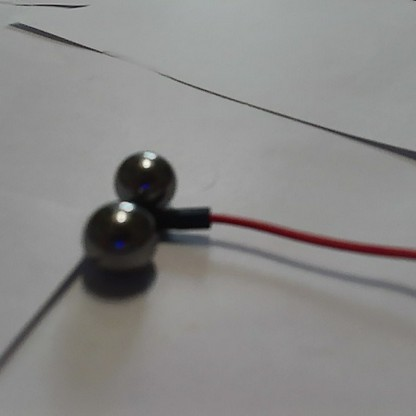ironball: (81, 201, 159, 271), (114, 146, 177, 208)
